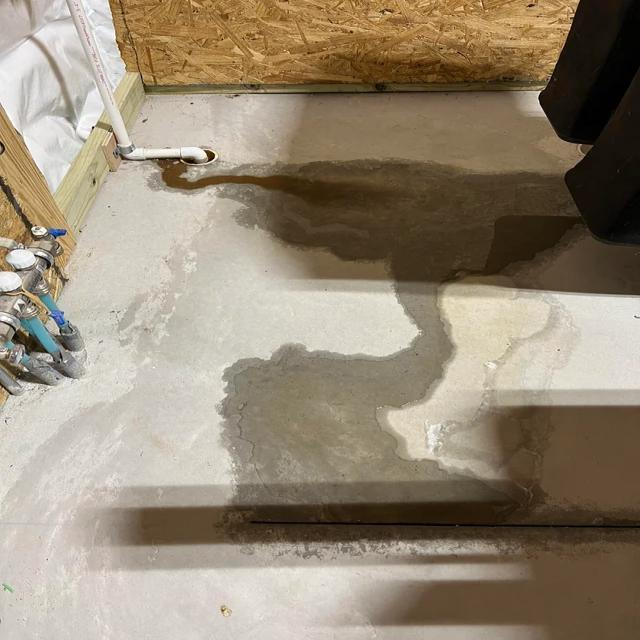water accumulation: (148, 146, 580, 549)
